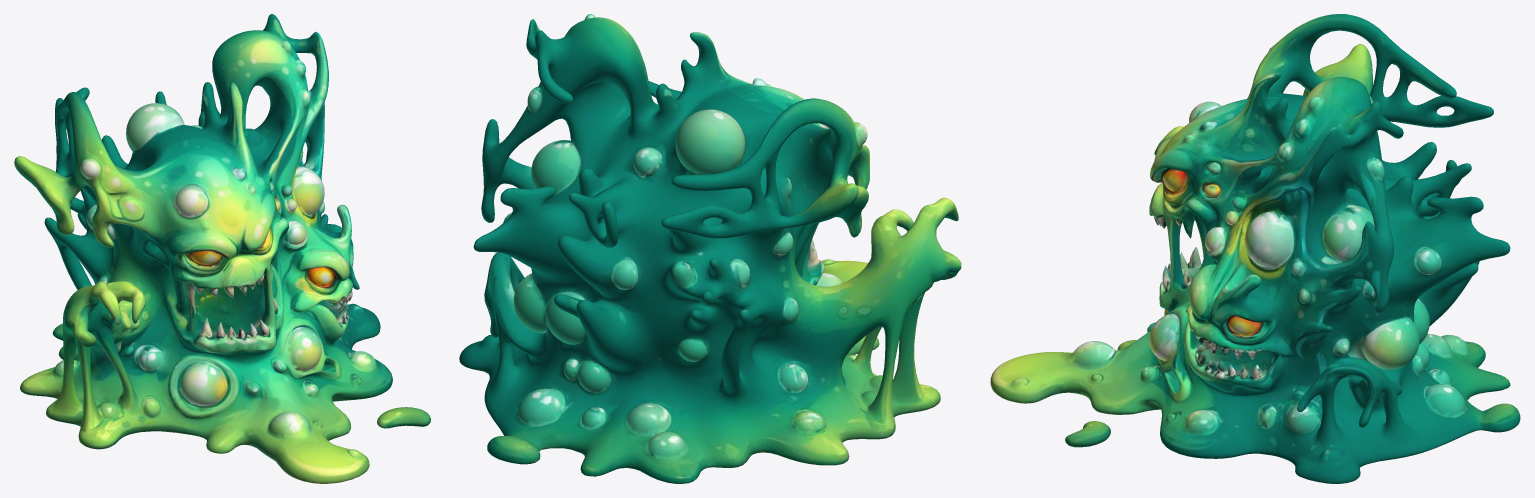
The model's file is EnemigoBoss.glb.
The picture shows the model from 3 angles, left to right: view 1: azimuth 30°, elevation 25°; view 2: azimuth 150°, elevation 25°; view 3: azimuth 270°, elevation 25°; orthographic projection. The views are drawn at different scales.
Visible parts, largest first — view 1: material; view 2: material; view 3: material.
Boxes of the visible parts, x1,y1,x2,y2 form: material: (14,14,430,483); material: (459,14,961,483); material: (990,14,1520,483).
Size of the model in its own units: 0.8181 by 0.6779 by 0.9527.
Materials: 1 (1 with a texture image).
